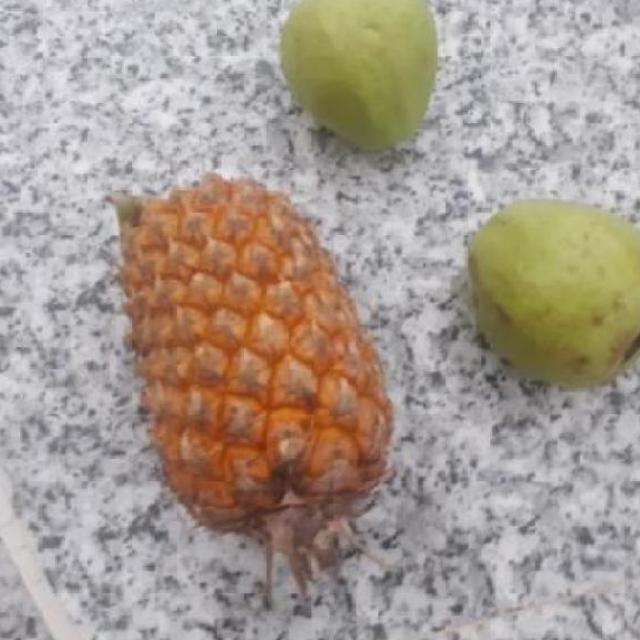guava: (452, 207, 640, 389), (275, 0, 439, 146)
pineapple: (110, 178, 398, 530)
